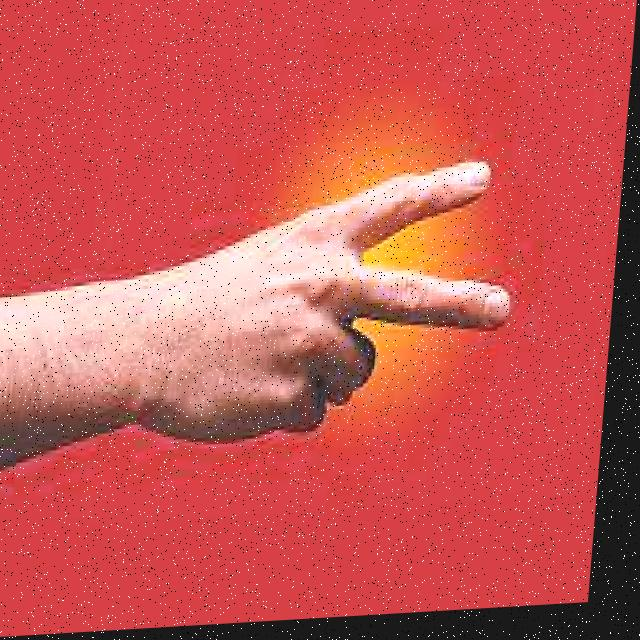scirssors: (47, 86, 557, 543)
